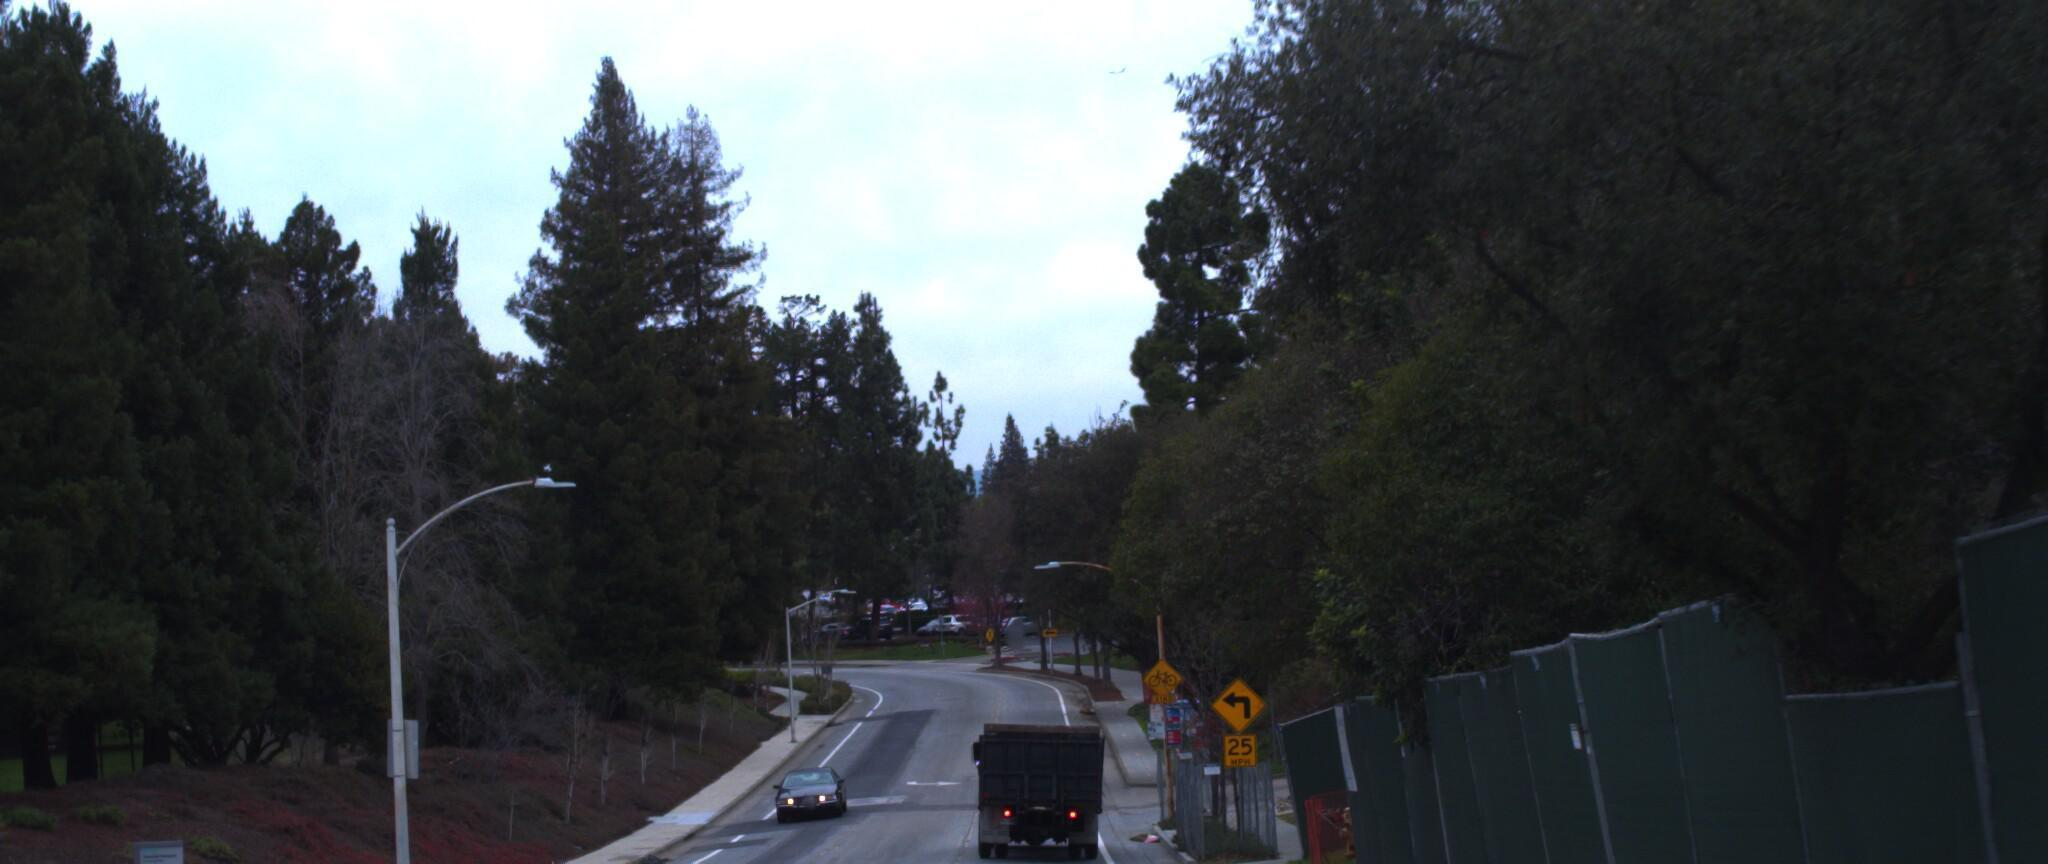truck: (956, 683, 1106, 864)
